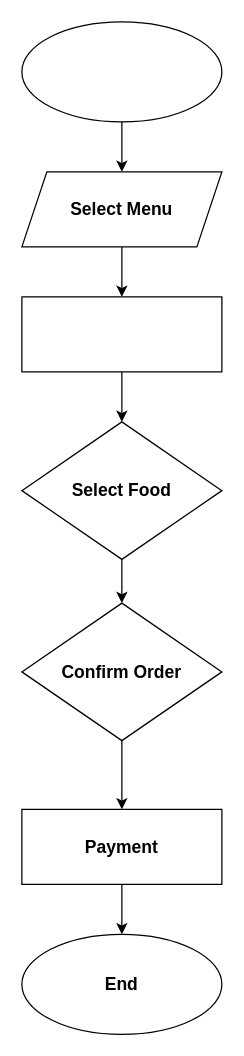
Some shapes in this 244 by 1056 pixel diagram are drawn without their labels. Here are the shapes that lost their labels. From the top down, the box of each, then its label:
(21, 21, 222, 122): Start
(21, 296, 222, 372): Display Menu
